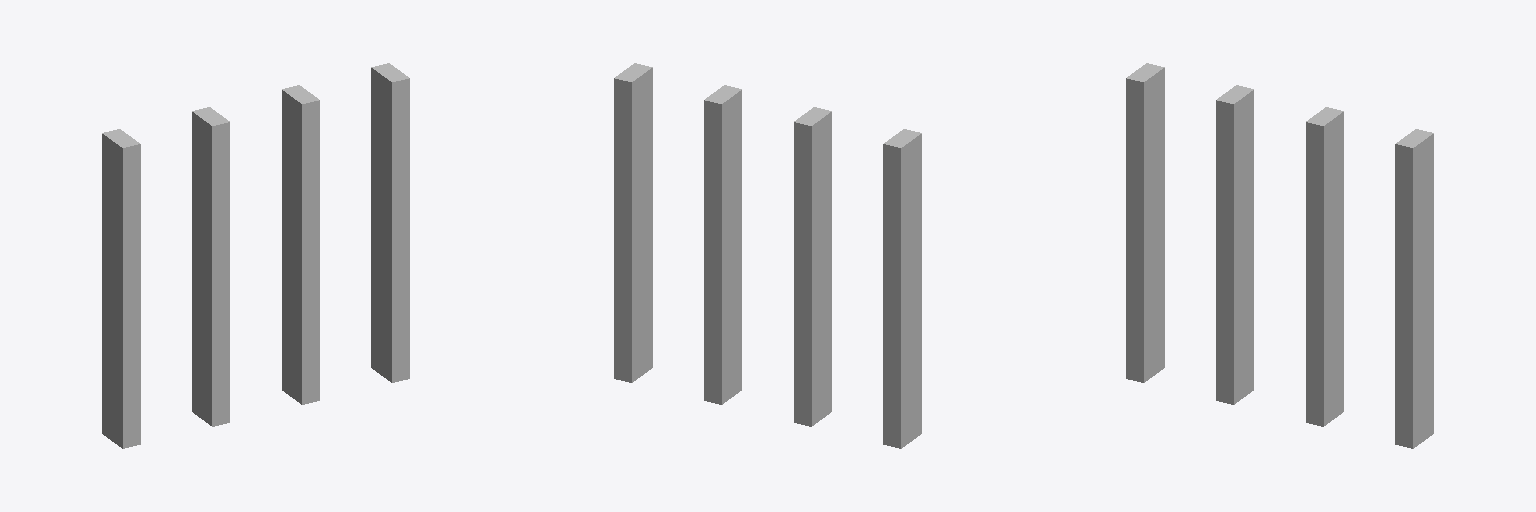
File: barre.obj
3 views of the same model, side by side, from view 1: azimuth 30°, elevation 25°; view 2: azimuth 150°, elevation 25°; view 3: azimuth 330°, elevation 25° (orthographic).
Visible parts, largest first — view 1: cube; view 2: cube; view 3: cube.
Part boxes in pixels (left/top/right/bottom): cube: left=102, top=63, right=409, bottom=448; cube: left=614, top=63, right=921, bottom=448; cube: left=1126, top=63, right=1433, bottom=448.
Bounding box in the file's own units: 1 × 1 × 0.125.